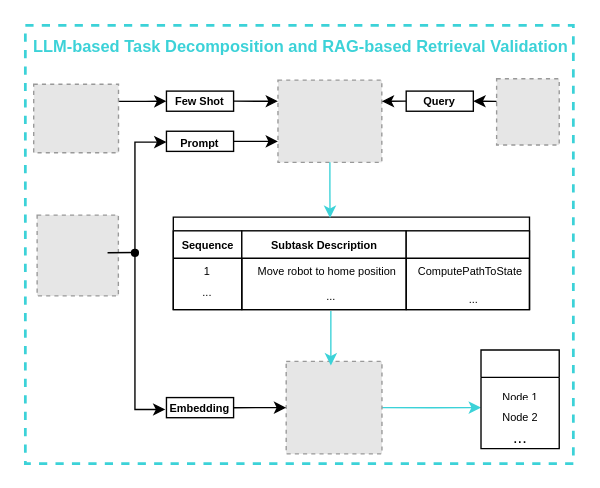
Image size: 600x488. Some labels were removed from this diagram. Grey dashed boxes stand in for pictures. Here are the shapes that lost their labels. From the top down, the box of each, then its label:
(172, 216, 530, 310): Subtasks
(405, 229, 530, 310): Recommended Node
(480, 349, 559, 449): Skill Node List
